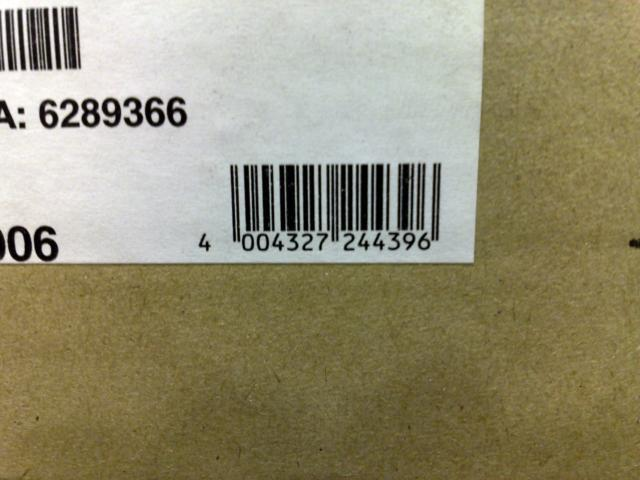Barcode: (182, 148, 461, 259)
